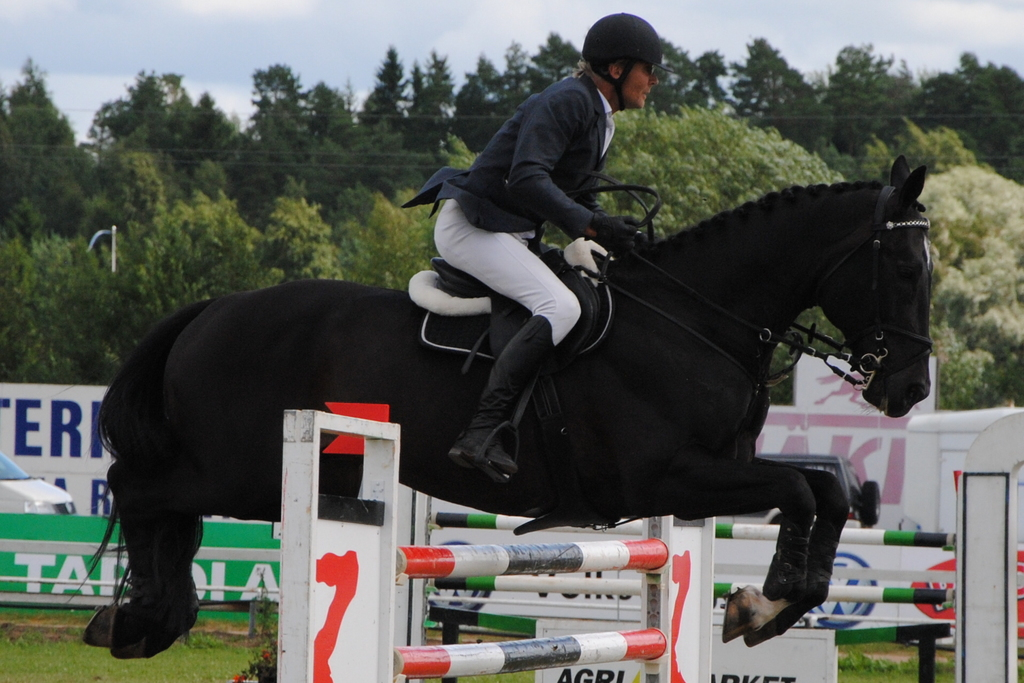Person: (402, 12, 675, 472)
